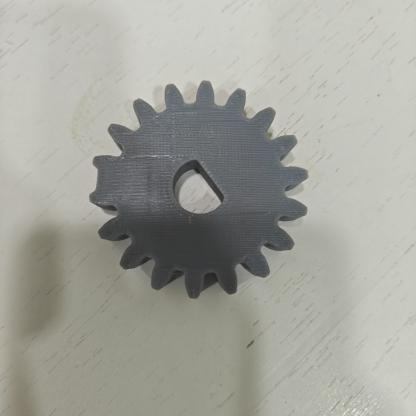defect: (179, 150, 248, 224), (73, 153, 121, 227)
gear: (90, 81, 308, 298)
